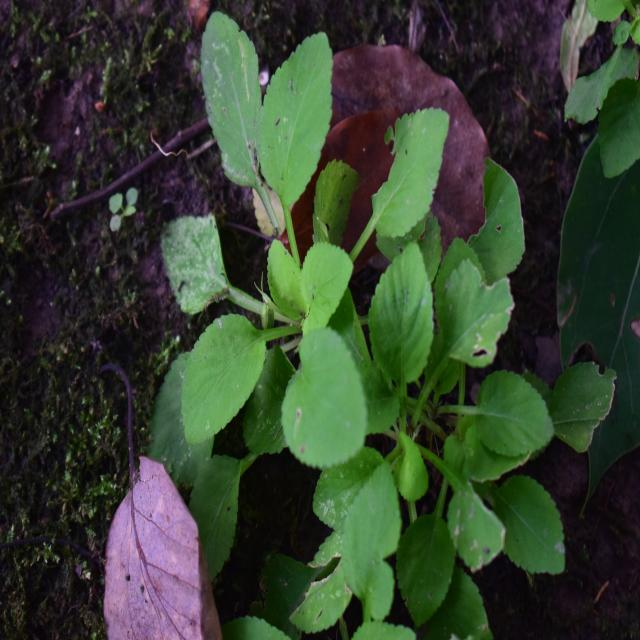Viola: (170, 51, 441, 510)
